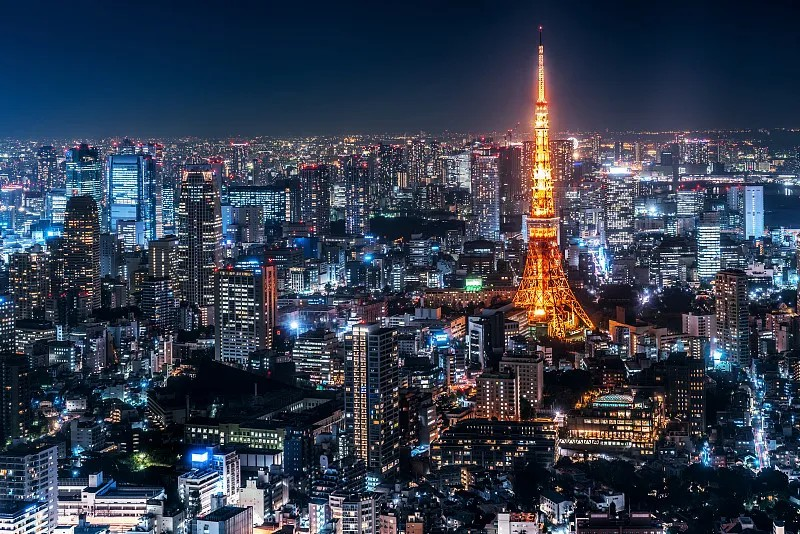Tokyo: (505, 24, 597, 347)
